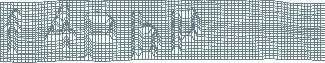4: (41, 3, 78, 53)
P: (82, 10, 118, 61)
b: (130, 9, 163, 61)
f: (2, 7, 27, 57)
p: (170, 6, 204, 57)
